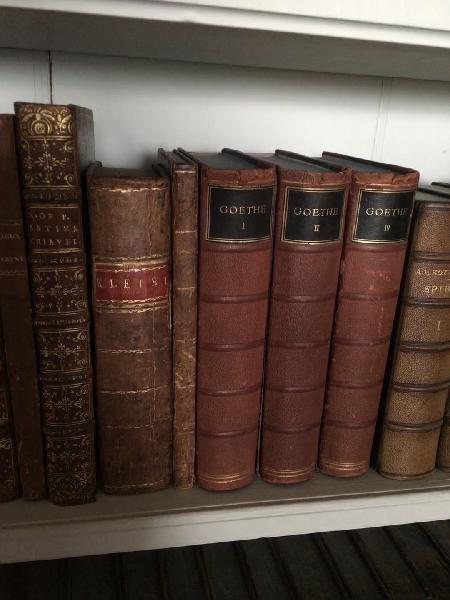Aa6-10: (168, 165, 196, 490)
Aa6-11_13: (198, 167, 422, 497)
Aa6-14_17: (376, 200, 450, 478)
Aa6-8: (13, 98, 101, 505)
Aa6-9: (84, 173, 175, 501)
